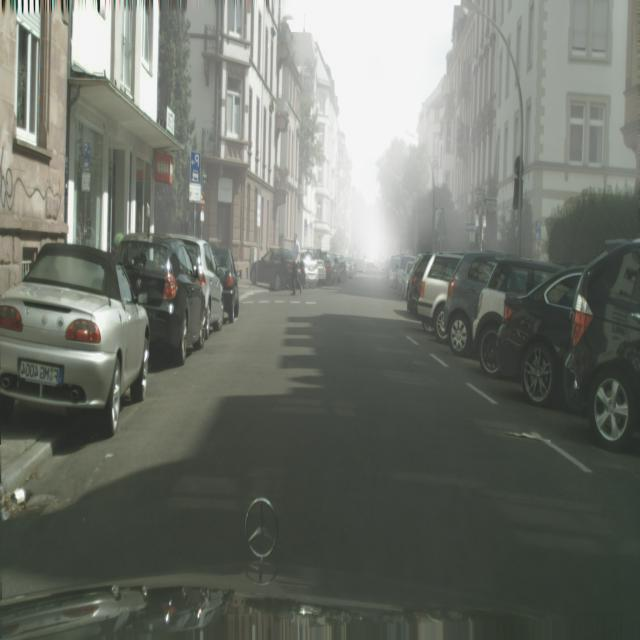bus: (290, 234, 302, 296)
person: (0, 241, 150, 439), (562, 238, 640, 449), (112, 234, 206, 365), (496, 266, 584, 405), (471, 258, 565, 376), (442, 250, 509, 356), (170, 236, 225, 334), (418, 251, 463, 339), (250, 246, 314, 291), (211, 244, 240, 321), (406, 251, 433, 314), (398, 254, 416, 298), (320, 252, 341, 284), (388, 255, 401, 288), (334, 254, 348, 282), (345, 254, 357, 279)
